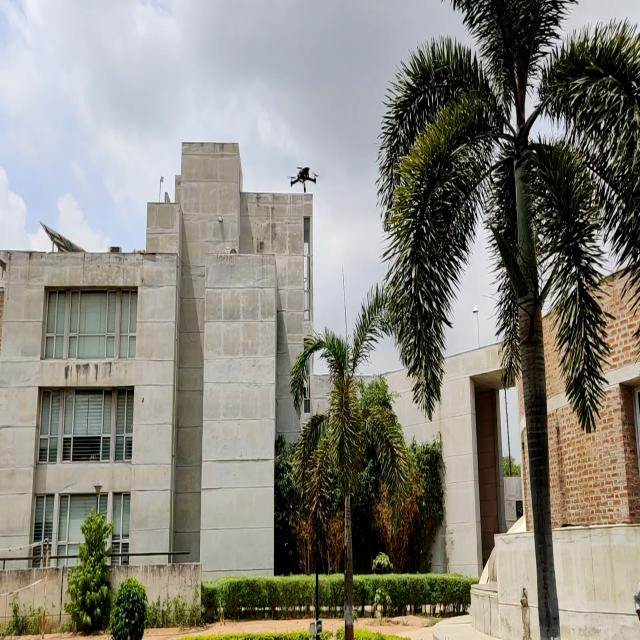drone: (285, 160, 318, 200)
